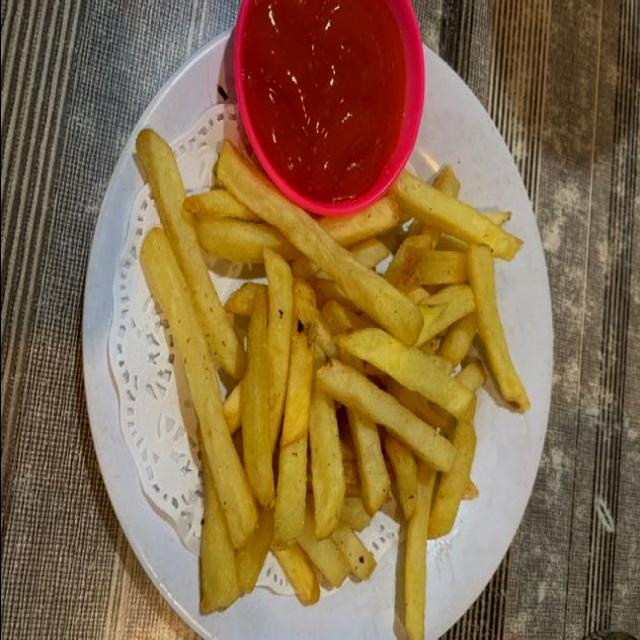kentang goreng: (134, 107, 528, 640)
